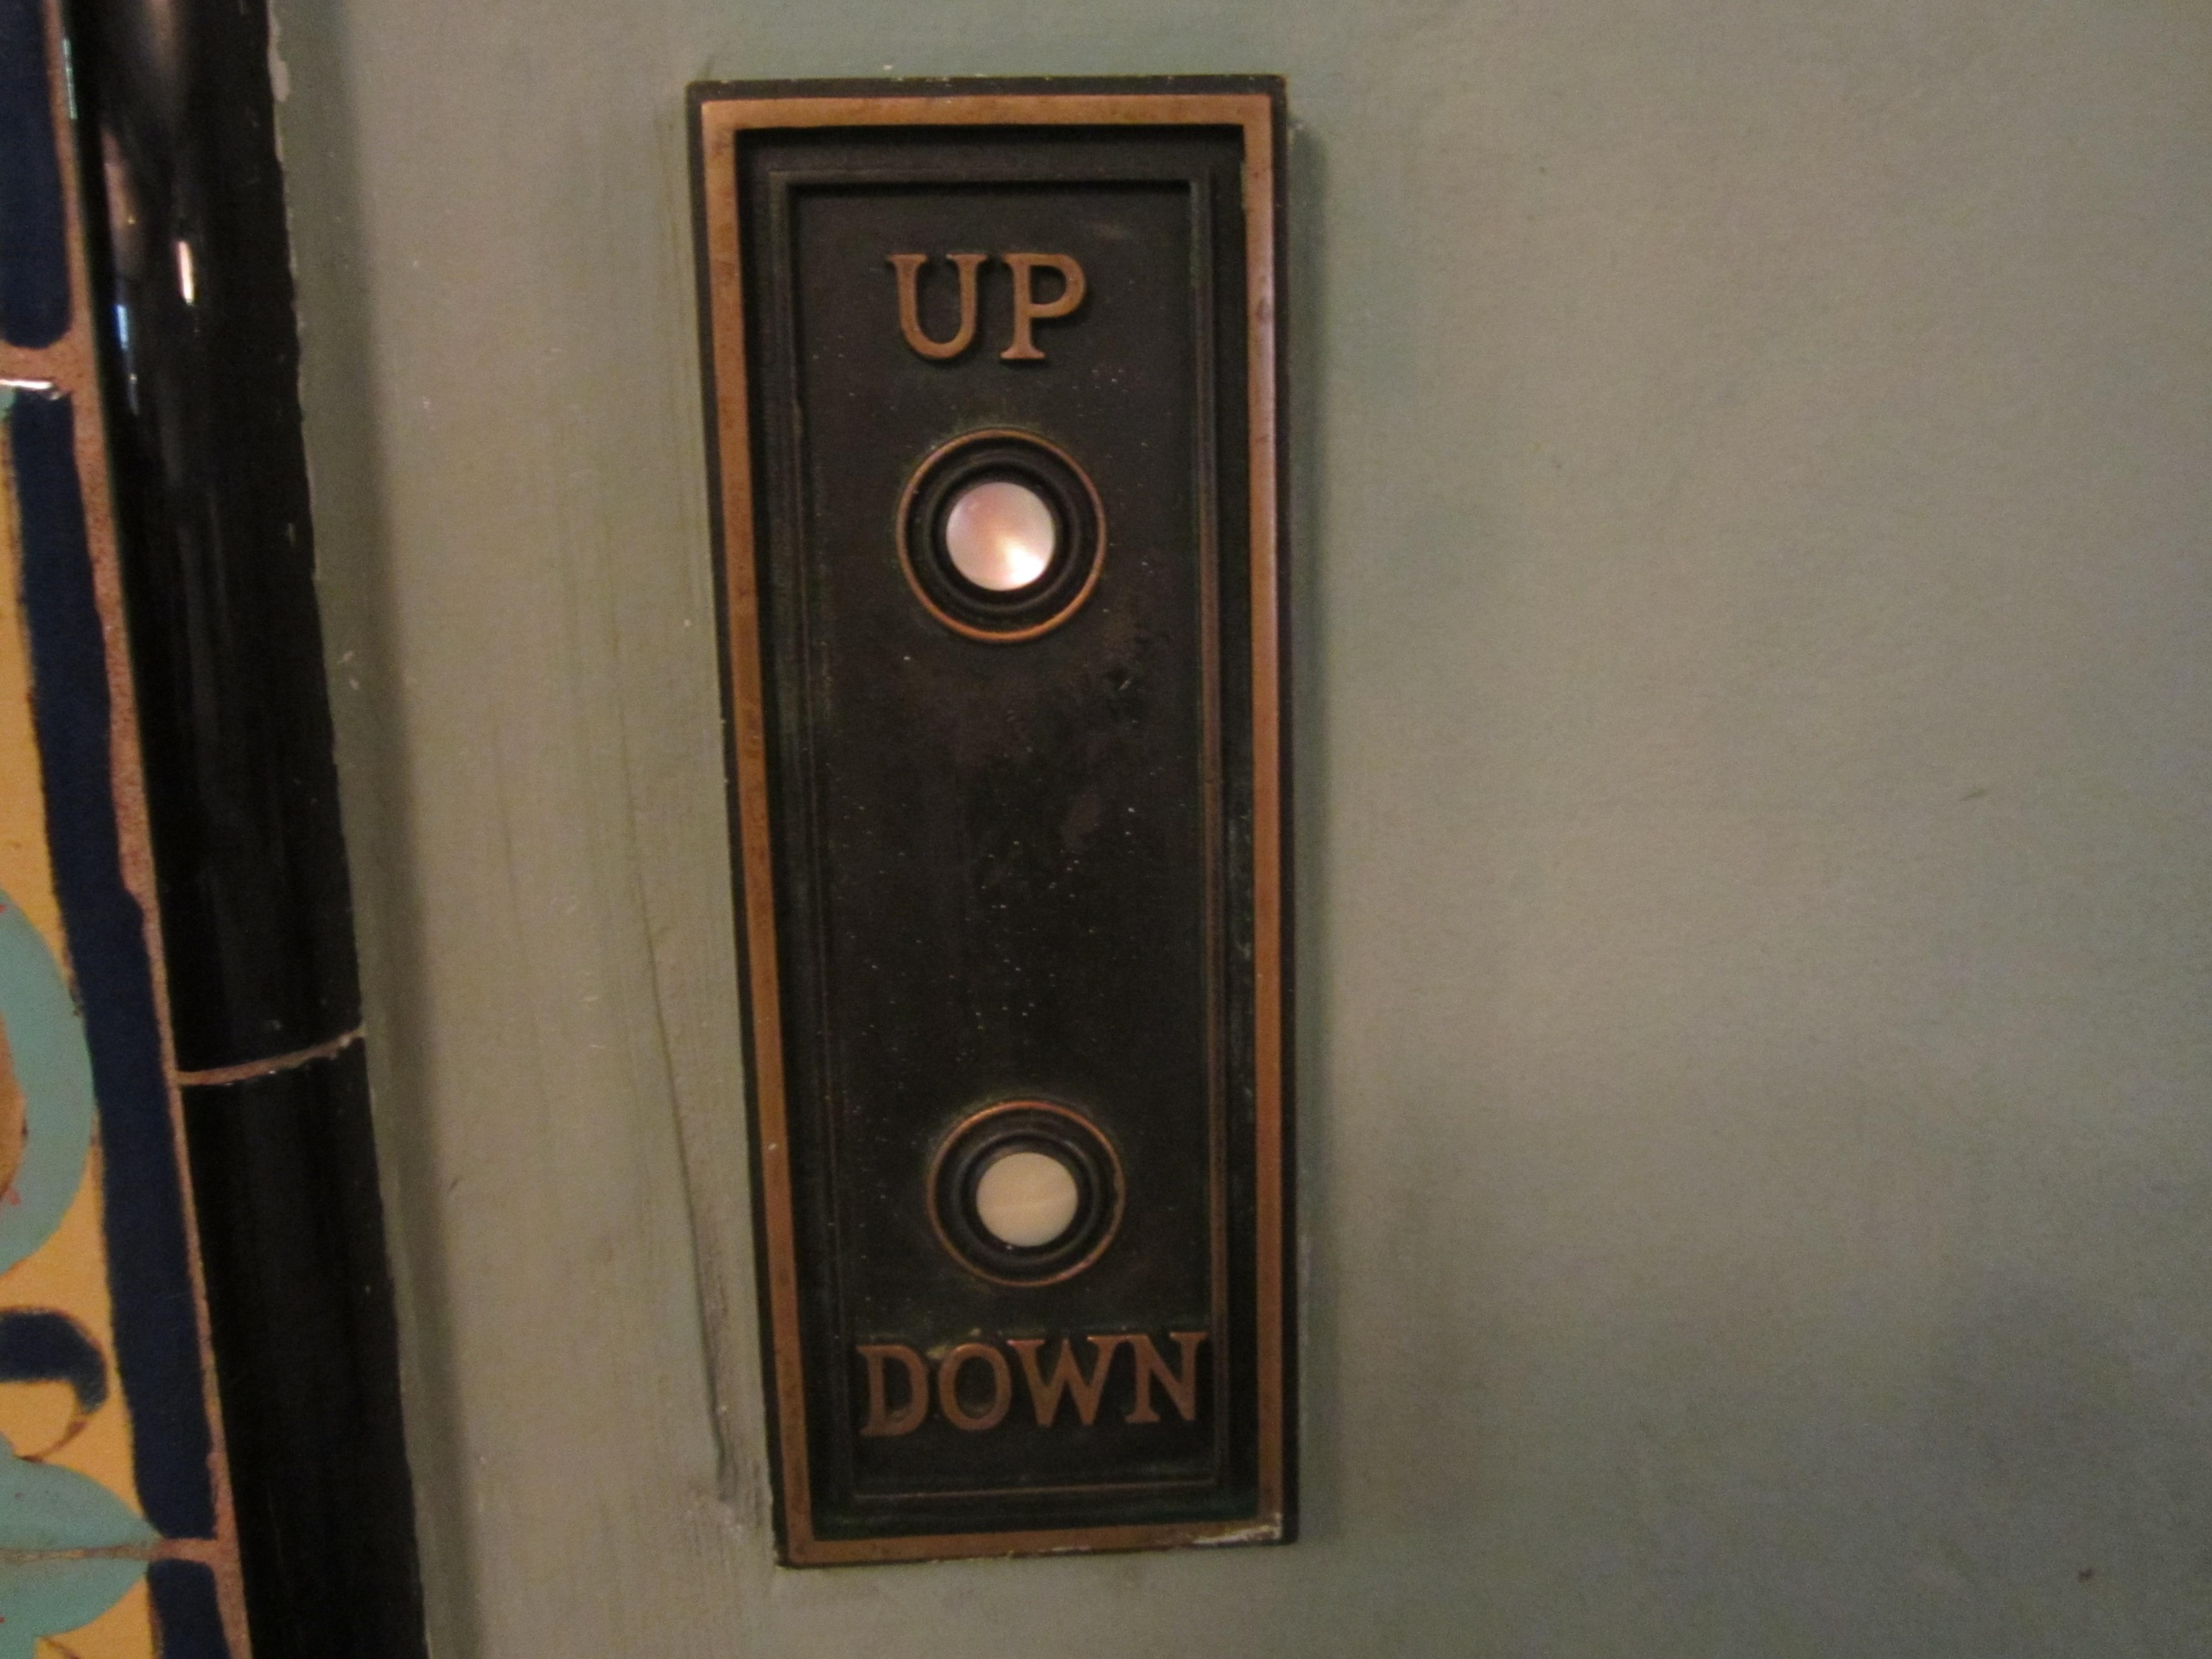empty: (890, 427, 1111, 645), (916, 1096, 1129, 1293)
